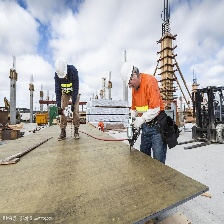helmet: (119, 61, 136, 88), (54, 57, 69, 81)
person: (120, 61, 172, 164), (54, 55, 82, 147)
